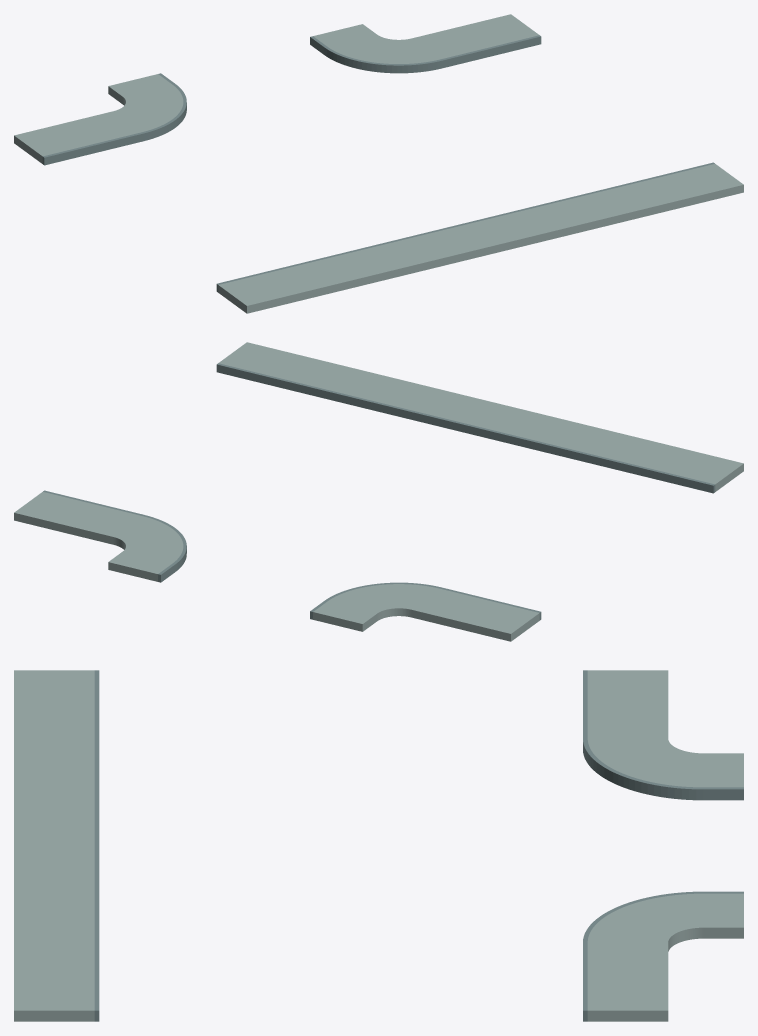
Rendered from RoadPlan_WalkCorner_T_4L_2L.glb.
The picture shows the model from 3 angles, top to bottom: view 1: azimuth 30°, elevation 25°; view 2: azimuth 150°, elevation 25°; view 3: azimuth 270°, elevation 25°; orthographic projection. The views are drawn at different scales.
Visible parts, largest first — view 1: RoadPlan_WalkCorner_T_4L_2L_ClosedSidePaving, RoadPlan_WalkCorner_T_4L_2L_ApproachPaving_1_1, RoadPlan_WalkCorner_T_4L_2L_ApproachPaving_0_0, RoadPlan_WalkCorner_T_4L_2L_CornerPaving_1, RoadPlan_WalkCorner_T_4L_2L_CornerPaving_0, RoadPlan_WalkCorner_T_4L_2L_CornerCurb_0, RoadPlan_WalkCorner_T_4L_2L_ClosedSideCurb, RoadPlan_WalkCorner_T_4L_2L_ApproachCurb_1_1, RoadPlan_WalkCorner_T_4L_2L_ApproachCurb_0_0, RoadPlan_WalkCorner_T_4L_2L_ApproachPaving_1_0, RoadPlan_WalkCorner_T_4L_2L_ApproachPaving_0_1, RoadPlan_WalkCorner_T_4L_2L_CornerCurb_1; view 2: RoadPlan_WalkCorner_T_4L_2L_ClosedSidePaving, RoadPlan_WalkCorner_T_4L_2L_ClosedSideCurb, RoadPlan_WalkCorner_T_4L_2L_ApproachPaving_1_1, RoadPlan_WalkCorner_T_4L_2L_ApproachPaving_0_0, RoadPlan_WalkCorner_T_4L_2L_CornerPaving_1, RoadPlan_WalkCorner_T_4L_2L_CornerPaving_0, RoadPlan_WalkCorner_T_4L_2L_ApproachPaving_1_0, RoadPlan_WalkCorner_T_4L_2L_ApproachPaving_0_1; view 3: RoadPlan_WalkCorner_T_4L_2L_ClosedSidePaving, RoadPlan_WalkCorner_T_4L_2L_ApproachPaving_0_0, RoadPlan_WalkCorner_T_4L_2L_ApproachPaving_1_1, RoadPlan_WalkCorner_T_4L_2L_CornerPaving_0, RoadPlan_WalkCorner_T_4L_2L_CornerPaving_1, RoadPlan_WalkCorner_T_4L_2L_ClosedSideCurb, RoadPlan_WalkCorner_T_4L_2L_ApproachPaving_0_1, RoadPlan_WalkCorner_T_4L_2L_CornerCurb_1, RoadPlan_WalkCorner_T_4L_2L_ApproachPaving_1_0.
Boxes of the visible parts, bbox=[...] form: RoadPlan_WalkCorner_T_4L_2L_ClosedSidePaving: bbox=[218, 164, 743, 313]; RoadPlan_WalkCorner_T_4L_2L_ApproachPaving_1_1: bbox=[14, 111, 141, 163]; RoadPlan_WalkCorner_T_4L_2L_ApproachPaving_0_0: bbox=[412, 14, 539, 59]; RoadPlan_WalkCorner_T_4L_2L_CornerPaving_1: bbox=[113, 84, 183, 131]; RoadPlan_WalkCorner_T_4L_2L_CornerPaving_0: bbox=[328, 34, 439, 63]; RoadPlan_WalkCorner_T_4L_2L_CornerCurb_0: bbox=[324, 46, 441, 73]; RoadPlan_WalkCorner_T_4L_2L_ClosedSideCurb: bbox=[216, 162, 714, 292]; RoadPlan_WalkCorner_T_4L_2L_ApproachCurb_1_1: bbox=[42, 132, 143, 165]; RoadPlan_WalkCorner_T_4L_2L_ApproachCurb_0_0: bbox=[440, 35, 541, 68]; RoadPlan_WalkCorner_T_4L_2L_ApproachPaving_1_0: bbox=[108, 74, 171, 103]; RoadPlan_WalkCorner_T_4L_2L_ApproachPaving_0_1: bbox=[313, 24, 376, 46]; RoadPlan_WalkCorner_T_4L_2L_CornerCurb_1: bbox=[142, 84, 186, 140]; RoadPlan_WalkCorner_T_4L_2L_ClosedSidePaving: bbox=[218, 342, 743, 491]; RoadPlan_WalkCorner_T_4L_2L_ClosedSideCurb: bbox=[216, 363, 715, 493]; RoadPlan_WalkCorner_T_4L_2L_ApproachPaving_1_1: bbox=[411, 589, 539, 641]; RoadPlan_WalkCorner_T_4L_2L_ApproachPaving_0_0: bbox=[14, 492, 141, 544]; RoadPlan_WalkCorner_T_4L_2L_CornerPaving_1: bbox=[327, 584, 439, 621]; RoadPlan_WalkCorner_T_4L_2L_CornerPaving_0: bbox=[113, 516, 183, 563]; RoadPlan_WalkCorner_T_4L_2L_ApproachPaving_1_0: bbox=[313, 601, 376, 631]; RoadPlan_WalkCorner_T_4L_2L_ApproachPaving_0_1: bbox=[108, 551, 171, 581]; RoadPlan_WalkCorner_T_4L_2L_ClosedSidePaving: bbox=[14, 670, 94, 1021]; RoadPlan_WalkCorner_T_4L_2L_ApproachPaving_0_0: bbox=[587, 942, 668, 1021]; RoadPlan_WalkCorner_T_4L_2L_ApproachPaving_1_1: bbox=[587, 670, 668, 738]; RoadPlan_WalkCorner_T_4L_2L_CornerPaving_0: bbox=[587, 893, 703, 951]; RoadPlan_WalkCorner_T_4L_2L_CornerPaving_1: bbox=[587, 738, 703, 787]; RoadPlan_WalkCorner_T_4L_2L_ClosedSideCurb: bbox=[94, 670, 99, 1021]; RoadPlan_WalkCorner_T_4L_2L_ApproachPaving_0_1: bbox=[703, 893, 743, 938]; RoadPlan_WalkCorner_T_4L_2L_CornerCurb_1: bbox=[583, 738, 703, 800]; RoadPlan_WalkCorner_T_4L_2L_ApproachPaving_1_0: bbox=[703, 753, 743, 787].
Bounding box in the file's own units: 20 × 0.3 × 18.12.
